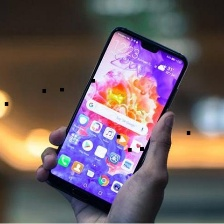phone: (42, 22, 189, 213)
